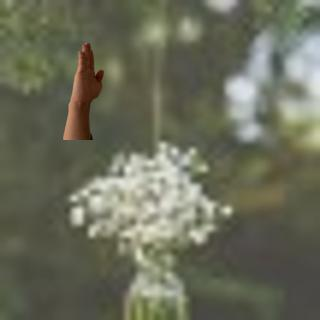RIGHT: (63, 36, 111, 113)
